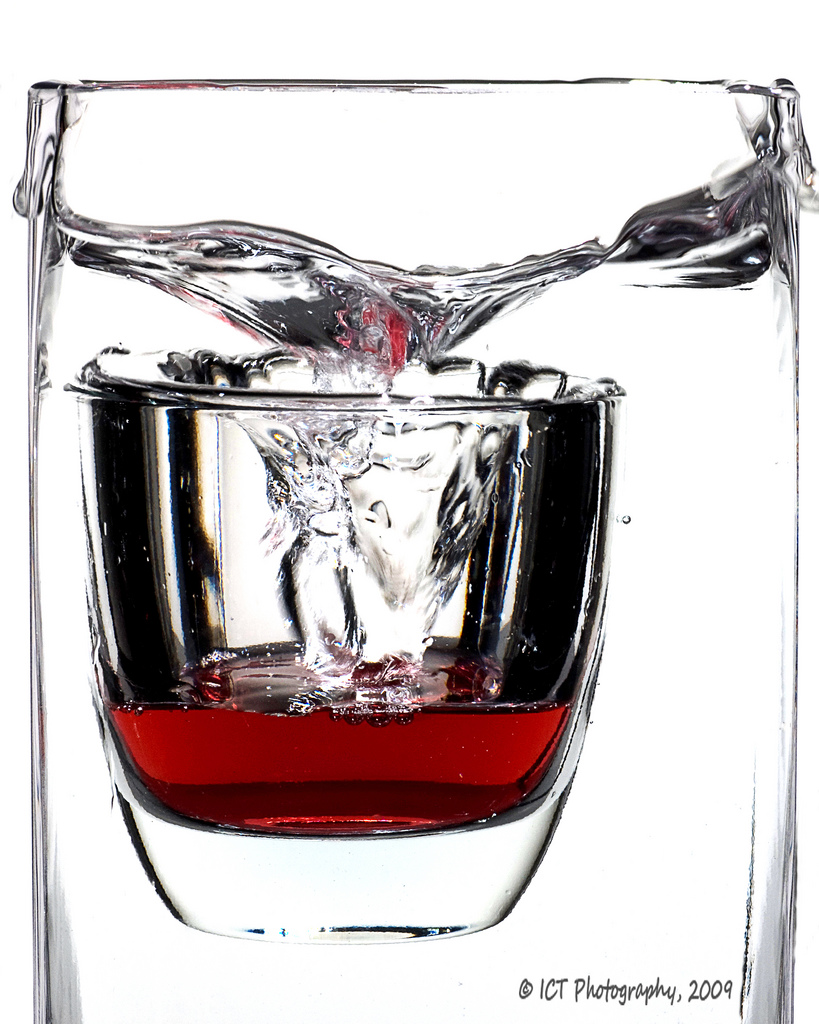glass of water: (44, 126, 661, 978)
